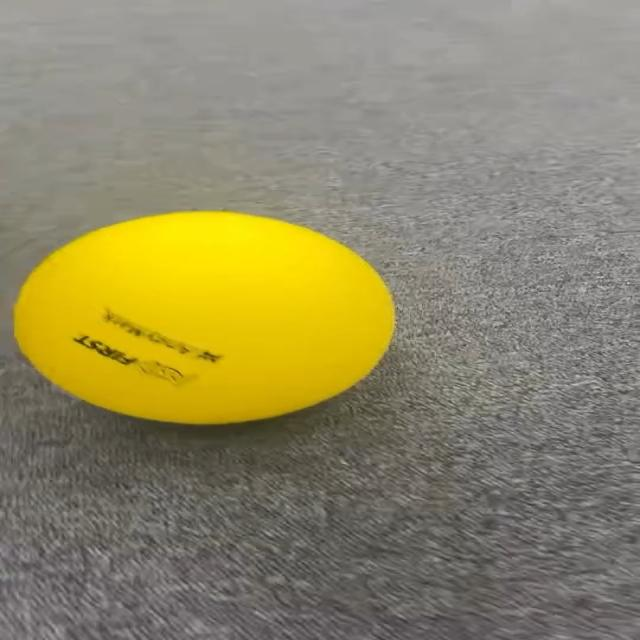Fuels: (14, 212, 396, 422)
